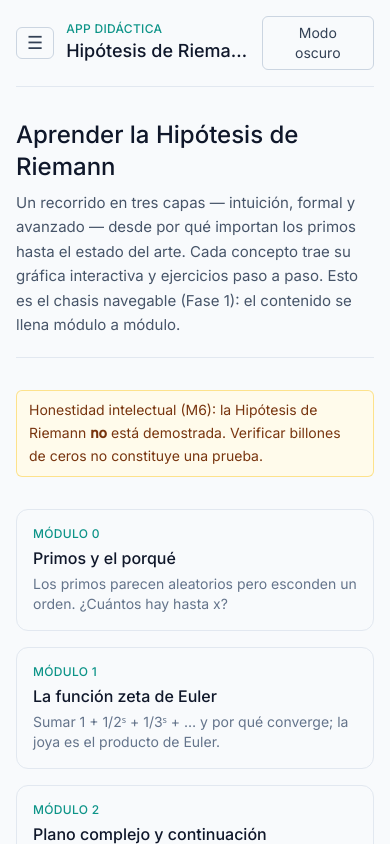
Scenario: Navegación móvil (hamburguesa / drawer) › abre y cierra el drawer, exponiendo aria-expanded
This screenshot has width=390, height=844.
expect the navigation bar "secciones" is not shown: met
Click the button named "abrir menú de módulos": {"x": 35, "y": 43} 16,27 -> 54,59
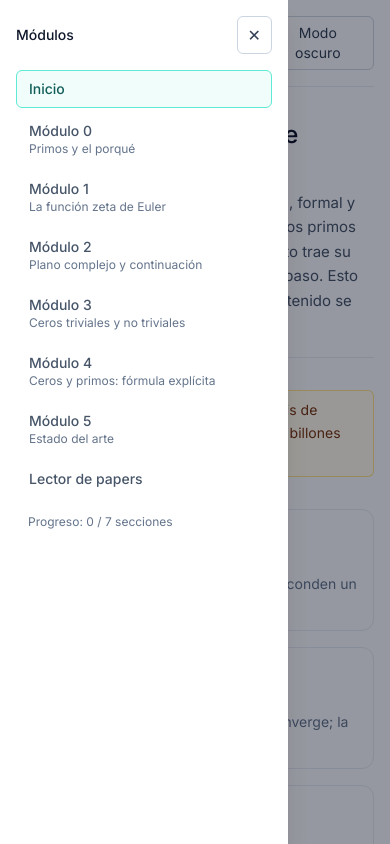
expect the button named "abrir menú de módulos" is expanded: met, box 16,27 -> 54,59
expect the navigation bar named "secciones" is shown: met
Cierra con el botón ✕.
Click the button named "cerrar menú": {"x": 254, "y": 35} 237,16 -> 272,54
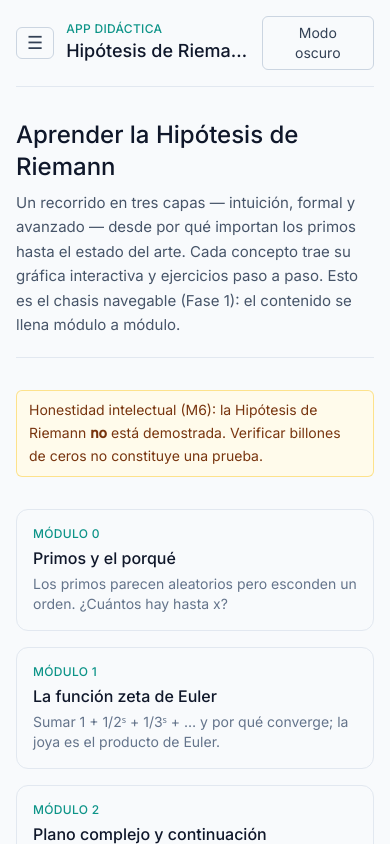
expect the button named "abrir menú de módulos" is collapsed: met, box 16,27 -> 54,59
expect the text "secciones" is gone: met
